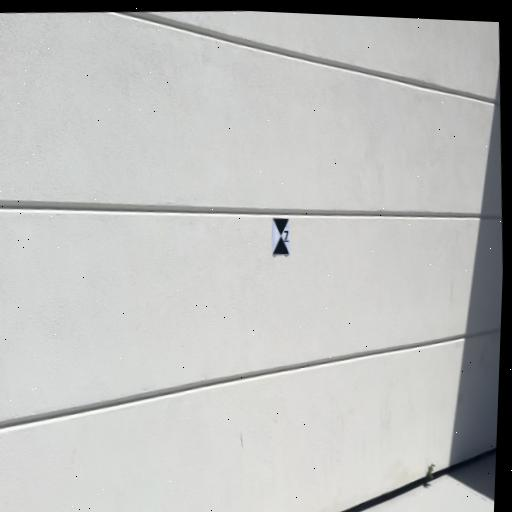target7: (271, 216, 291, 255)
